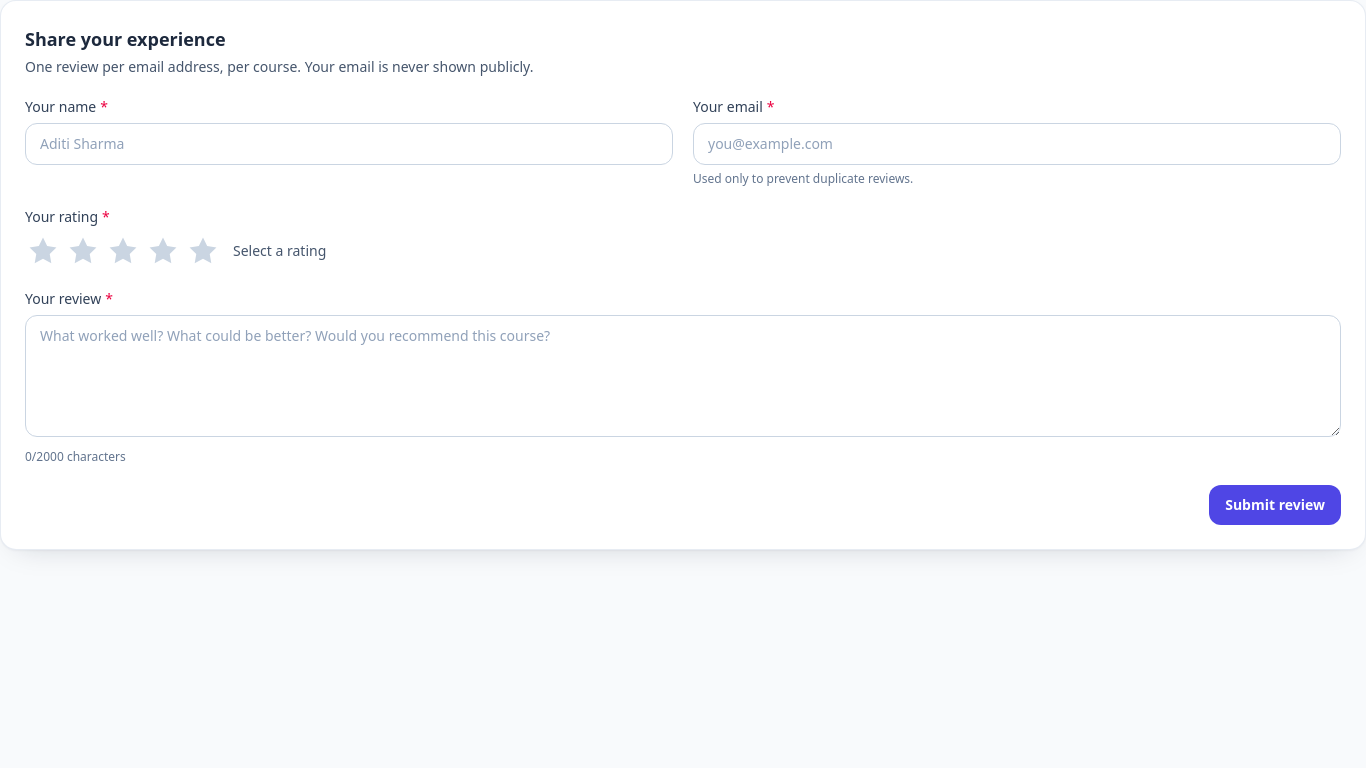
Test case: ReviewForm › blocks submission and reports validation errors when empty
Step 1. Click the button "Submit review" → (1275, 505), box [1209,485,1341,525]
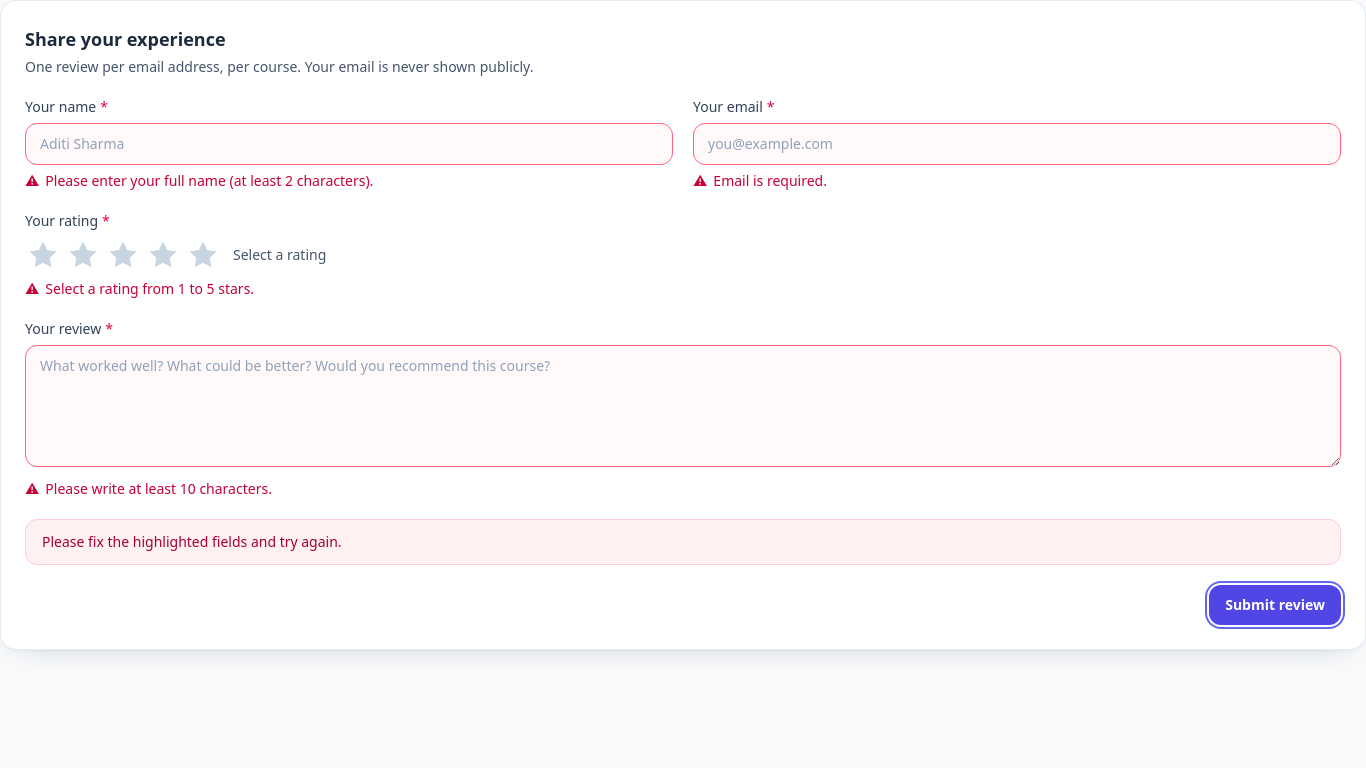
expect the text "Please enter your full name (at least 2 characters)." is shown: met, box [45,171,373,191]
expect the text "Email is required." is shown: met, box [713,171,827,191]
expect the text "Select a rating from 1 to 5 stars." is shown: met, box [45,279,254,299]
